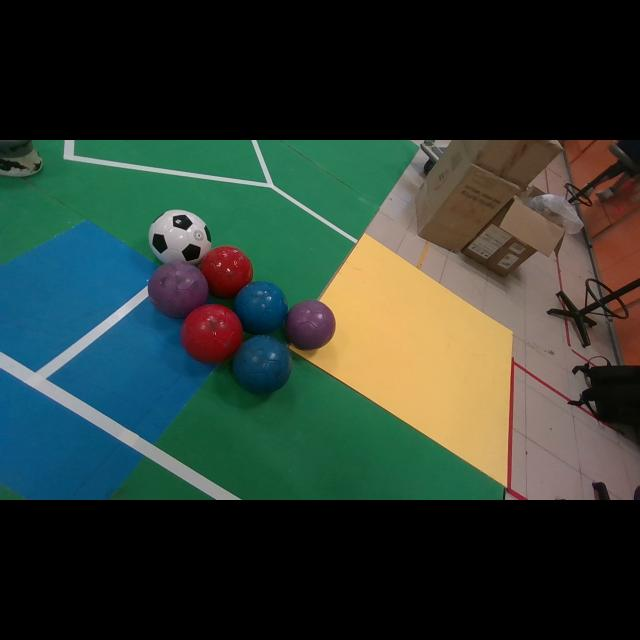B: (232, 335, 292, 394), (234, 281, 288, 334)
P: (149, 261, 209, 318), (285, 300, 335, 349)
R: (181, 304, 244, 364), (200, 245, 254, 298)
